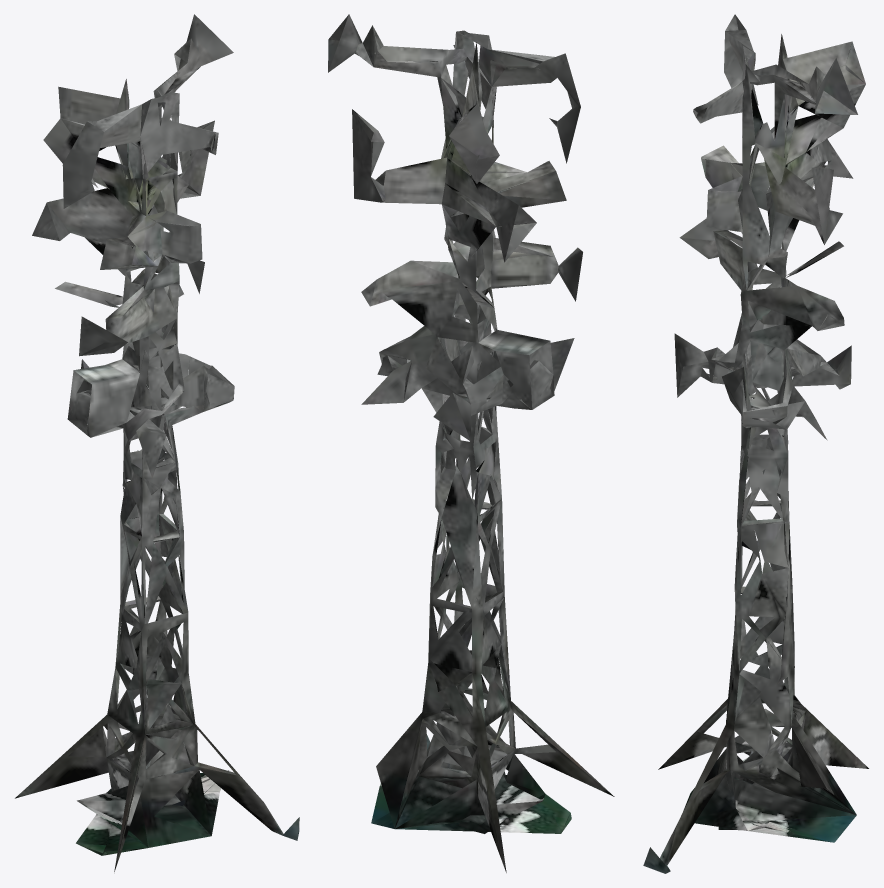
Rendered from antenna_1010336062_lod0.glb.
The picture shows the model from 3 angles, left to right: view 1: azimuth 30°, elevation 25°; view 2: azimuth 150°, elevation 25°; view 3: azimuth 270°, elevation 25°; orthographic projection. The views are drawn at different scales.
Bounding box in the file's own units: 1.77 × 6.34 × 1.62.
1 material, 1 textured.
